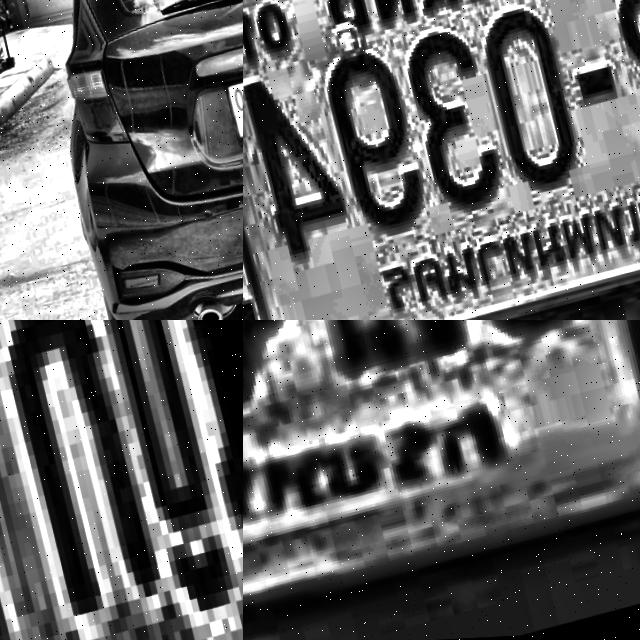license-plate: (243, 0, 640, 320), (243, 320, 640, 621), (0, 320, 243, 640), (219, 61, 243, 155)
